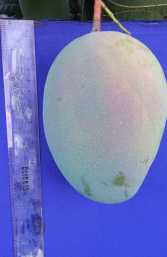Mango-sano: (43, 31, 166, 203)
